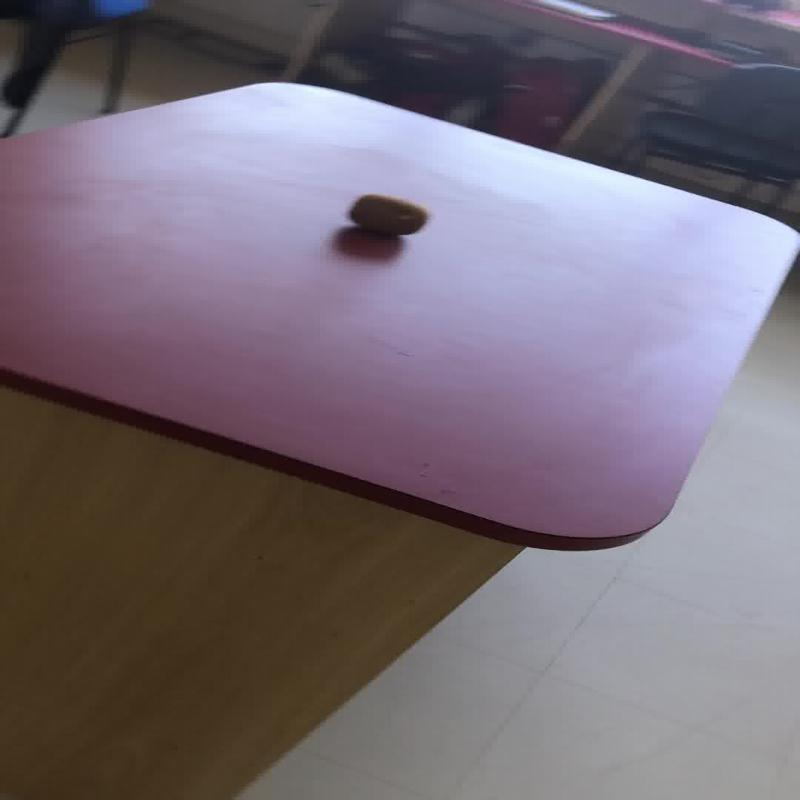kiwi: (348, 193, 428, 235)
